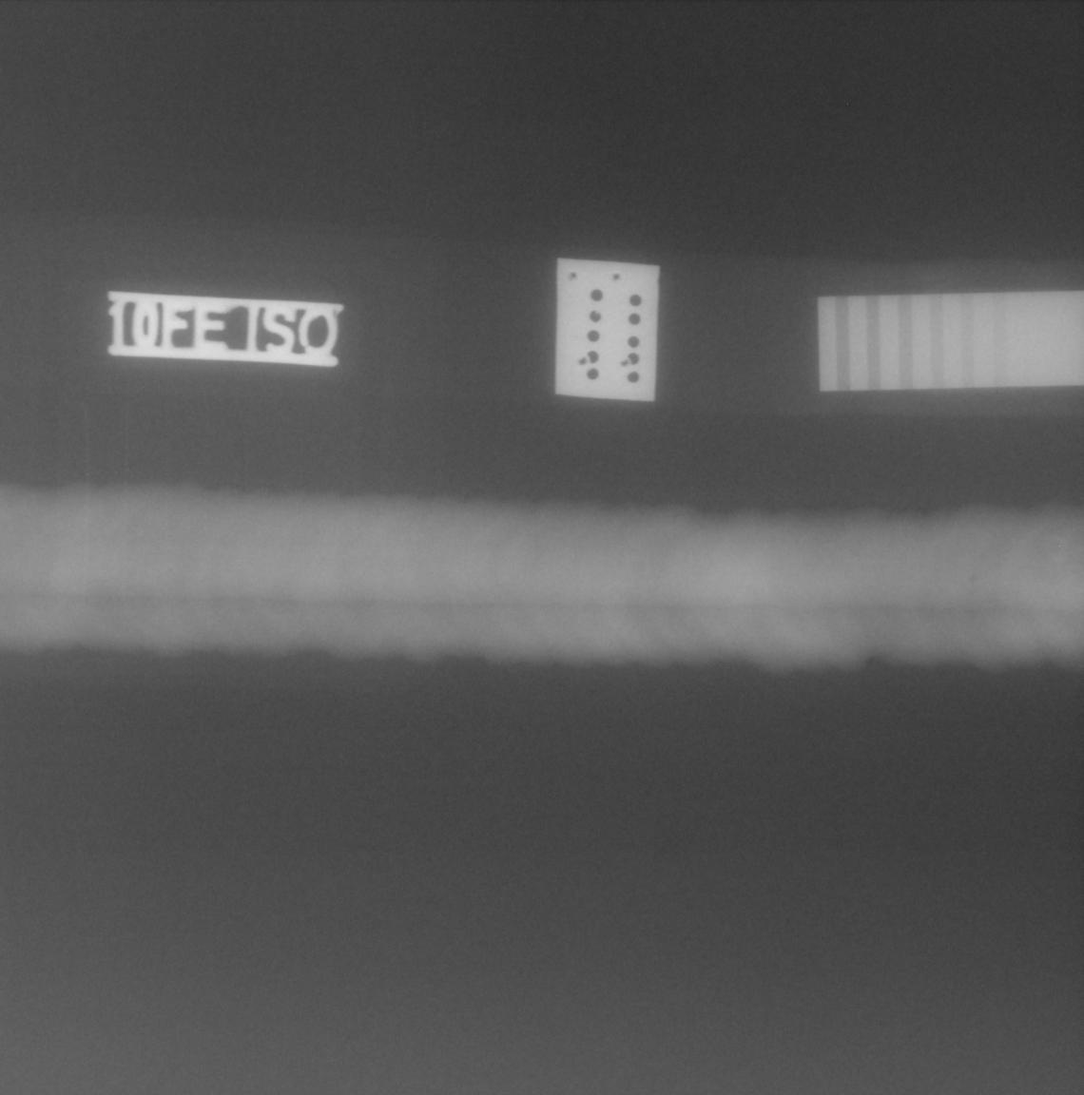Pore/Porosity: (1050, 542, 1060, 550), (969, 574, 977, 582)
